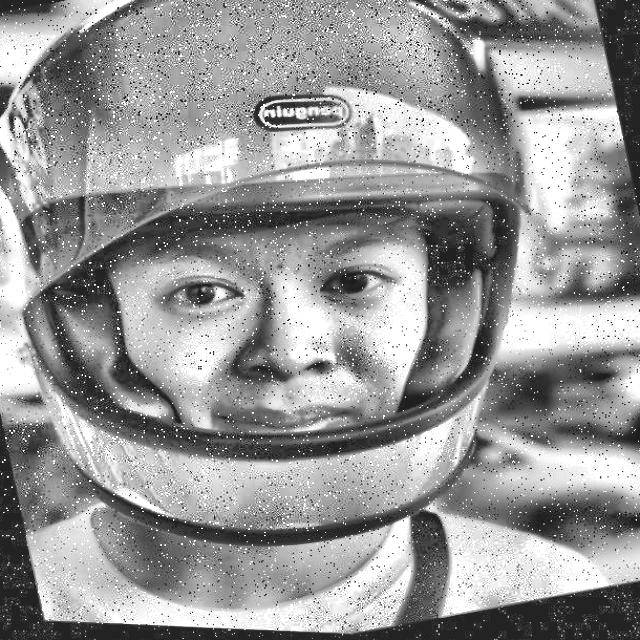Helmet: (0, 0, 618, 631)
